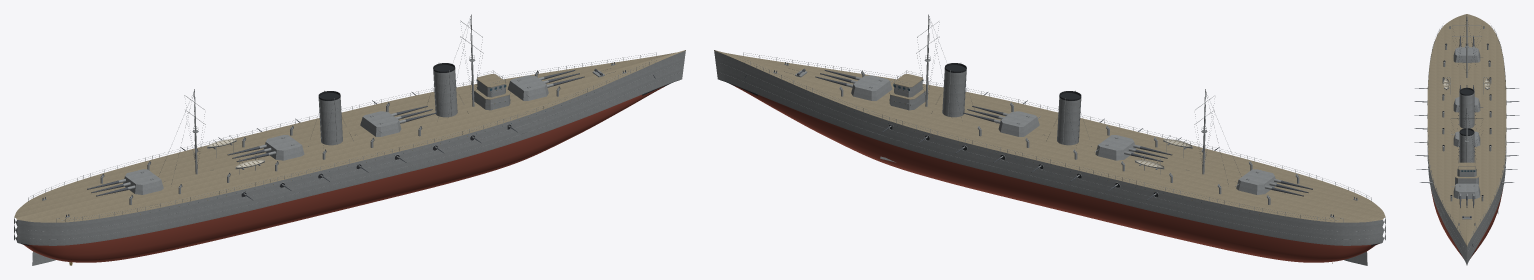
The model's file is sevastopol_1914.glb.
The picture shows the model from 3 angles, left to right: view 1: azimuth 30°, elevation 25°; view 2: azimuth 150°, elevation 25°; view 3: azimuth 270°, elevation 25°; orthographic projection. The views are drawn at different scales.
Parts seen in each view (by area): view 1: Sevastopol class; view 2: Sevastopol class; view 3: Sevastopol class.
Boxes of the visible parts, x1,y1,x2,y2 form: Sevastopol class: (14, 14, 685, 265); Sevastopol class: (714, 14, 1385, 265); Sevastopol class: (1414, 14, 1519, 265).
Size of the model in its own units: 188 by 39.4 by 35.48.
Materials: 8 (2 with a texture image).
